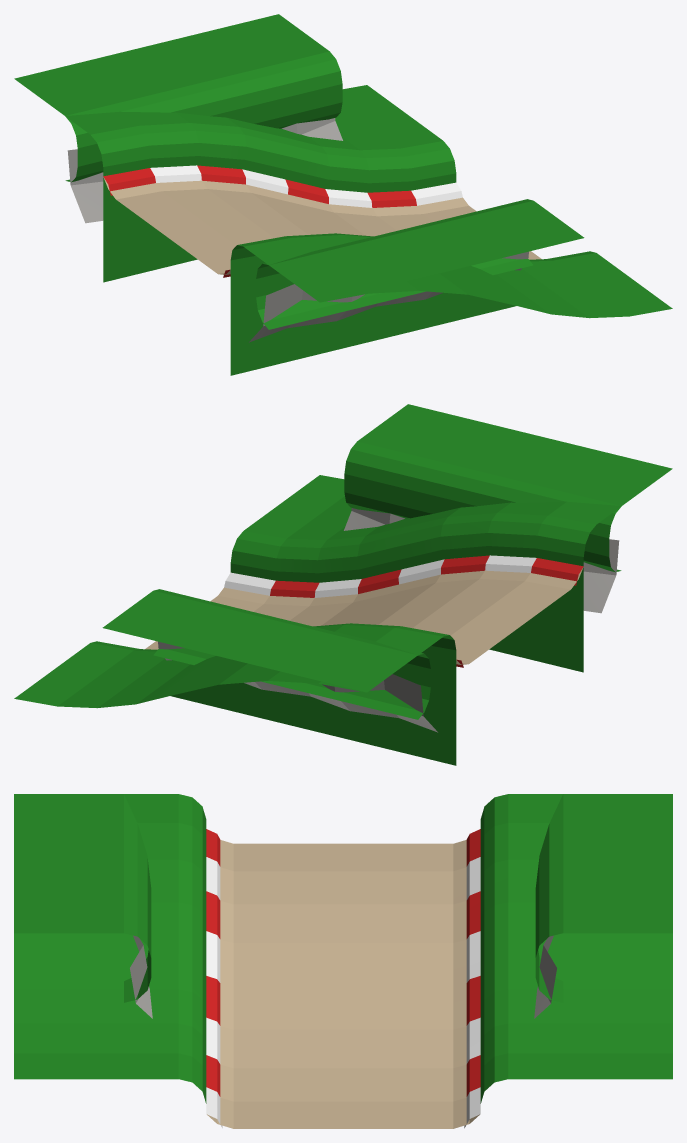
The model's file is Track_Cliff_Incline_Striped_1_Tall_Double.obj.
3 renders of one model, top to bottom at view 1: azimuth 30°, elevation 25°; view 2: azimuth 150°, elevation 25°; view 3: azimuth 270°, elevation 25°, orthographic. The views are drawn at different scales.
Parts seen in each view (by area): view 1: Grass, Dirt, Rock, Raceline_Color_2, Raceline_Color_1; view 2: Grass, Dirt, Rock, Raceline_Color_2, Raceline_Color_1; view 3: Grass, Dirt, Raceline_Color_1, Raceline_Color_2, Rock.
Part boxes in pixels (<box>): Grass: <box>14,14,672,375</box>; Dirt: <box>103,177,541,274</box>; Rock: <box>67,118,528,342</box>; Raceline_Color_2: <box>103,165,416,277</box>; Raceline_Color_1: <box>150,165,462,207</box>; Grass: <box>14,404,672,765</box>; Dirt: <box>145,567,583,664</box>; Rock: <box>158,508,619,732</box>; Raceline_Color_2: <box>270,555,583,667</box>; Raceline_Color_1: <box>224,555,536,597</box>; Grass: <box>14,794,672,1103</box>; Dirt: <box>207,840,479,1128</box>; Raceline_Color_1: <box>206,857,480,1128</box>; Raceline_Color_2: <box>206,829,480,1096</box>; Rock: <box>130,935,556,1018</box>.
Size of the model in its own units: 4 by 1.5 by 6.
